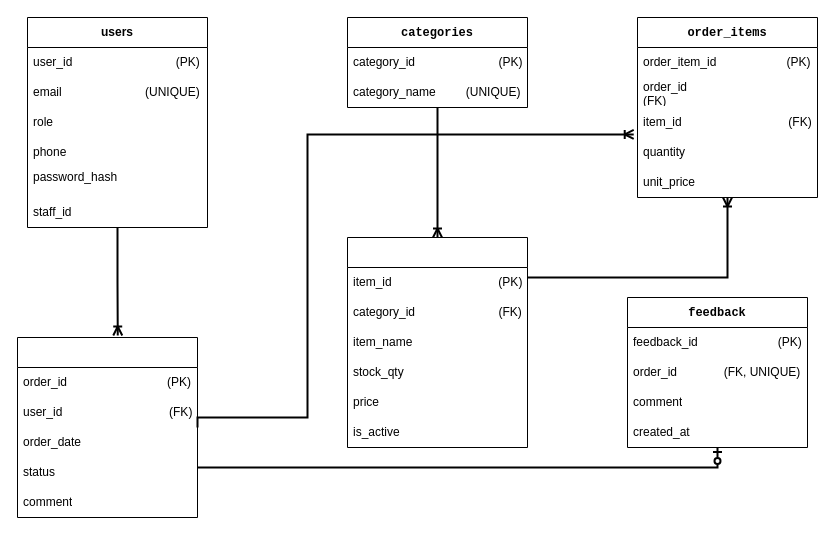
The diagram is 835 pixels wide and 535 high, and some of its shapes have lost their labels. The shapes that lost their labels are listed below. From the top down, each one's box as (x1, y1, x2, y2) in pixels, then its label:
(346, 236, 528, 448): menu_items
(16, 336, 198, 518): orders
